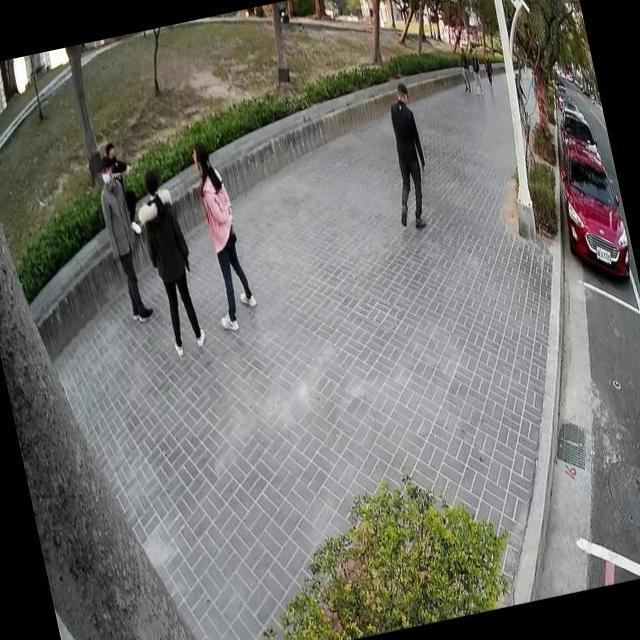person: (125, 162, 212, 362), (177, 131, 262, 335), (88, 148, 158, 328), (370, 73, 440, 235), (100, 133, 148, 240), (508, 66, 533, 123), (464, 46, 485, 96), (454, 43, 474, 93), (478, 49, 496, 86), (524, 67, 538, 101)
